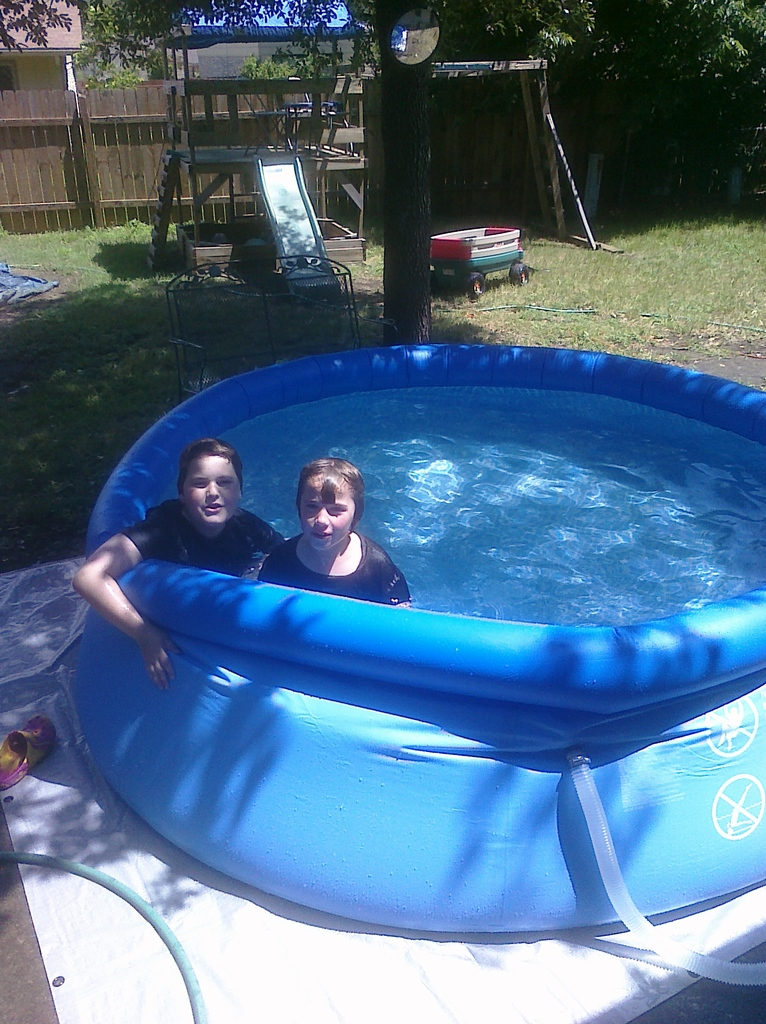Person: (72, 437, 285, 690), (256, 457, 411, 610)
